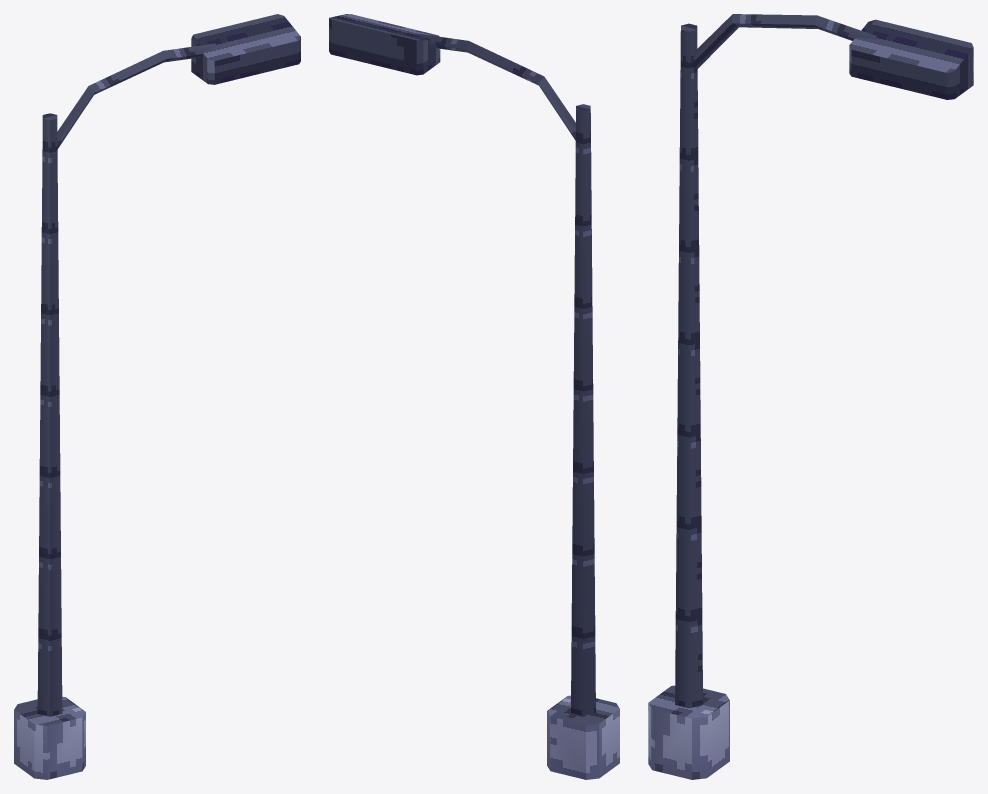
File: cytech.street_light.glb
3 renders of one model, left to right at view 1: azimuth 30°, elevation 25°; view 2: azimuth 150°, elevation 25°; view 3: azimuth 330°, elevation 25°, orthographic. The views are drawn at different scales.
Visible parts, largest first — view 1: kit_pole; view 2: kit_pole; view 3: kit_pole.
Boxes of the visible parts, bbox=[...] form: kit_pole: bbox=[14, 14, 300, 779]; kit_pole: bbox=[329, 14, 619, 779]; kit_pole: bbox=[648, 14, 973, 779].
Size of the model in its own units: 2.6 by 6.35 by 0.5.
5 materials, 5 textured.
